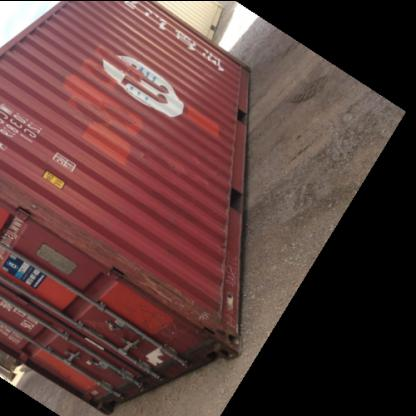Damage: (7, 186, 88, 240), (56, 240, 158, 272), (143, 284, 219, 318), (141, 343, 169, 369), (151, 324, 185, 338)
